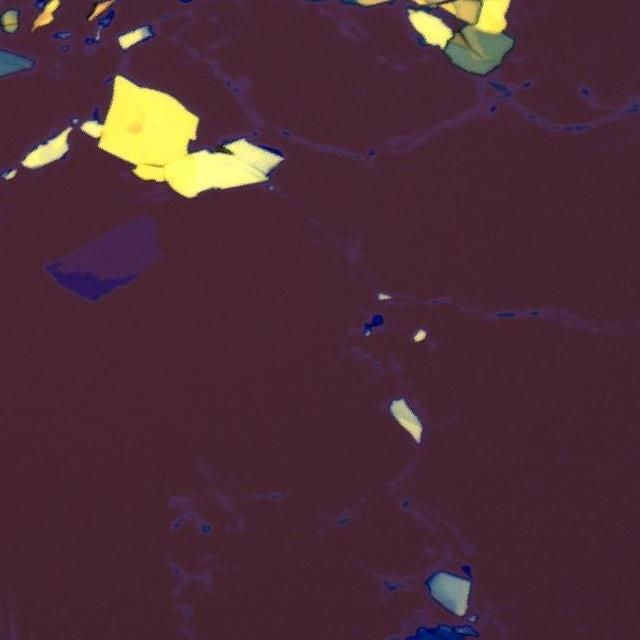monolayer-eWW4: (59, 215, 169, 281)
